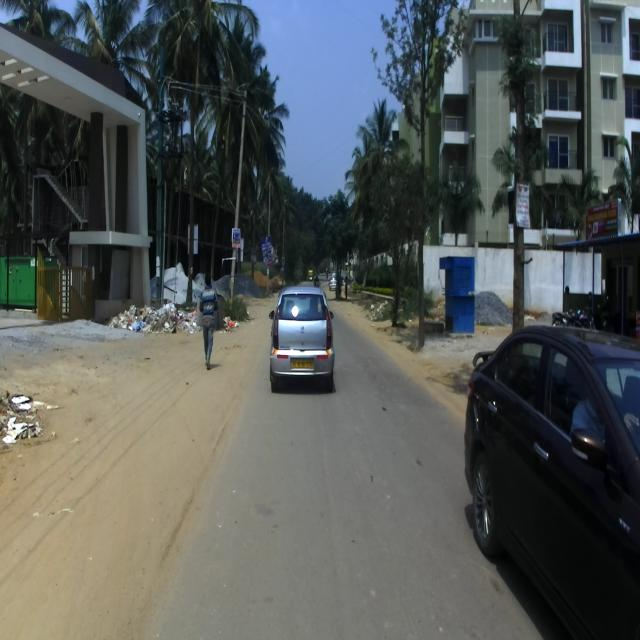car ahead at: (466, 316, 640, 640), (268, 277, 339, 399)
person ahead at: (197, 269, 221, 373)
